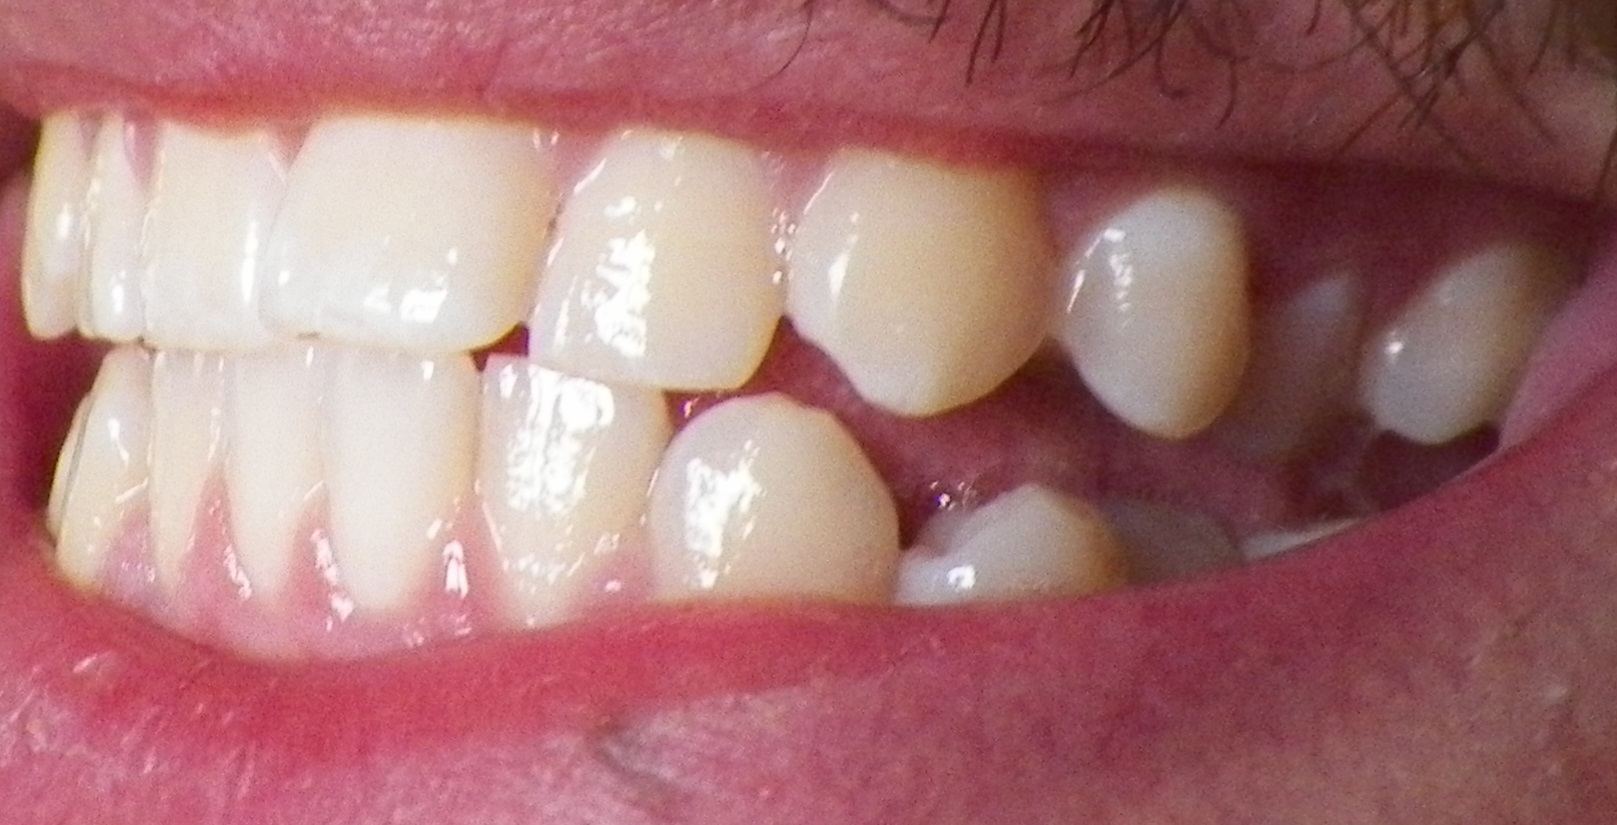boca: (26, 101, 1539, 630)
